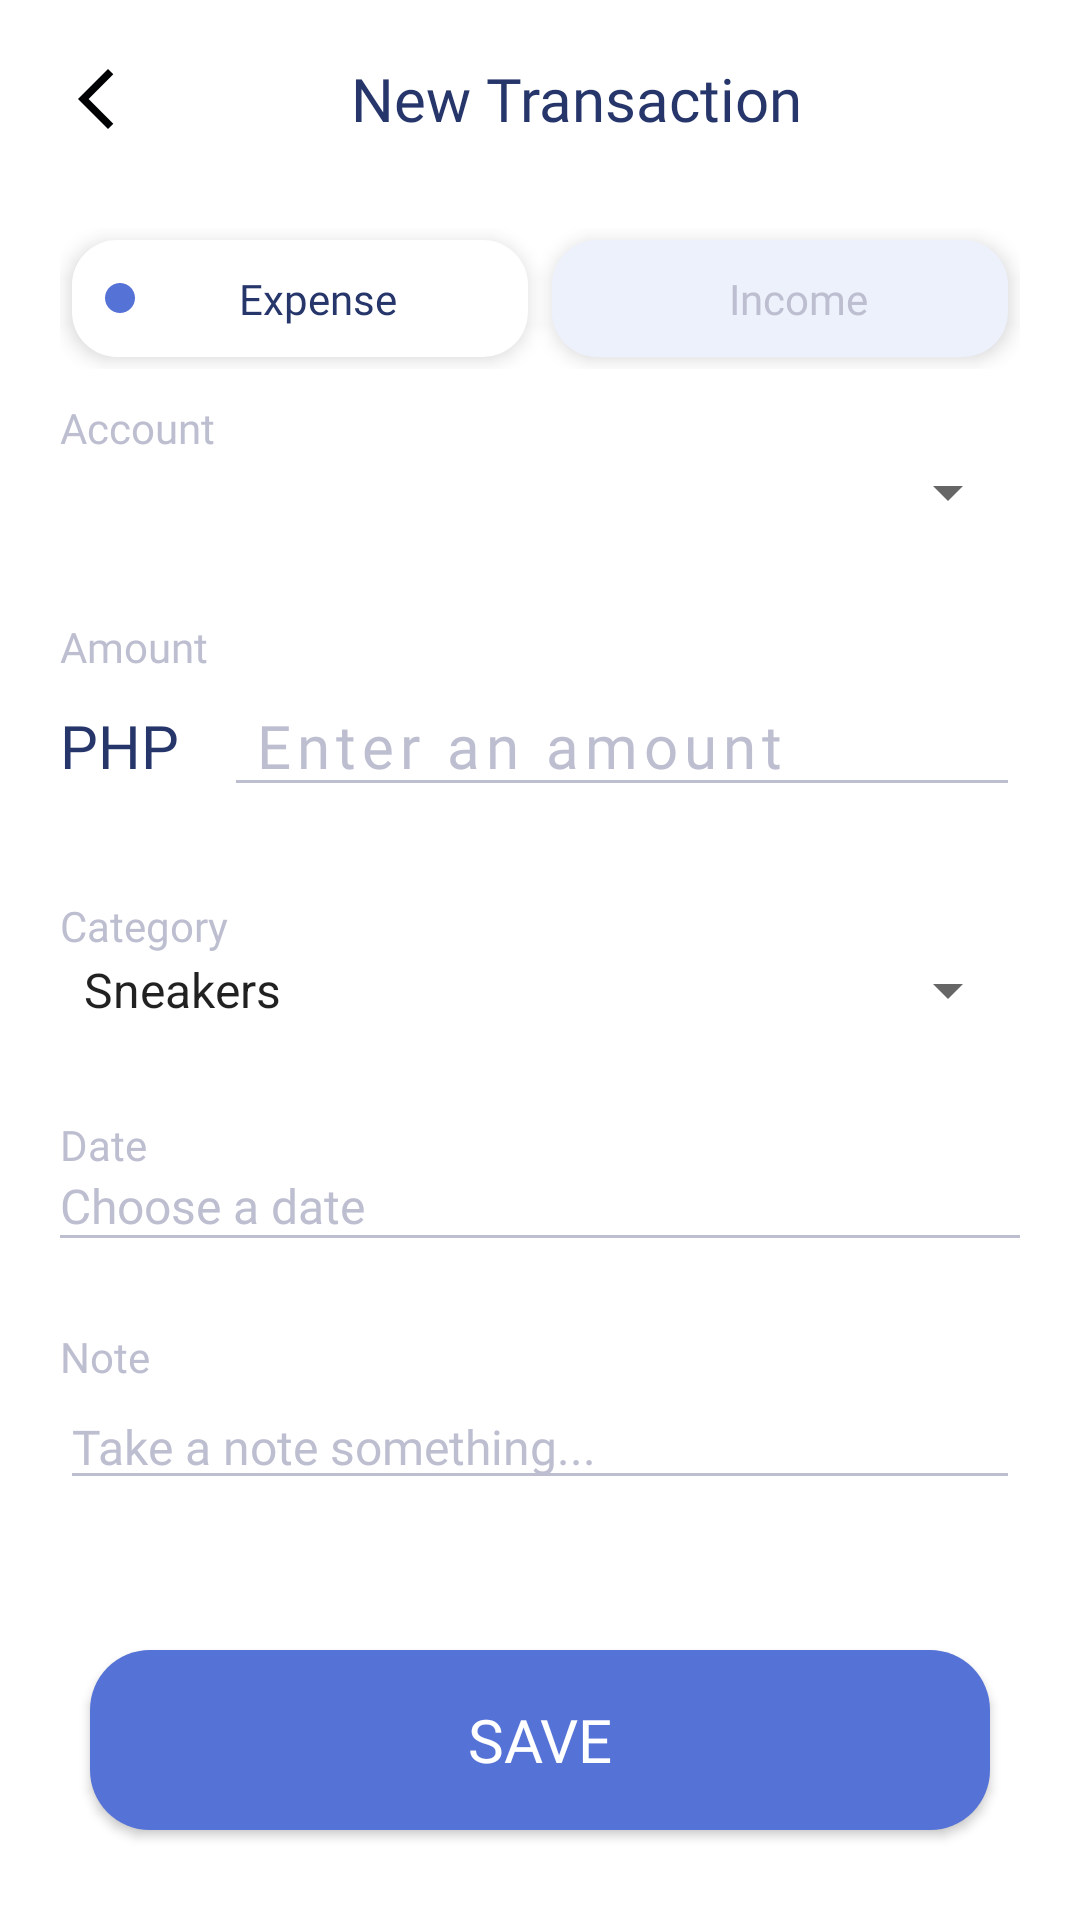

Point at icon controls on the screen. Image size 1080*1920, points as (x,y).
arrow back: (95,99)
